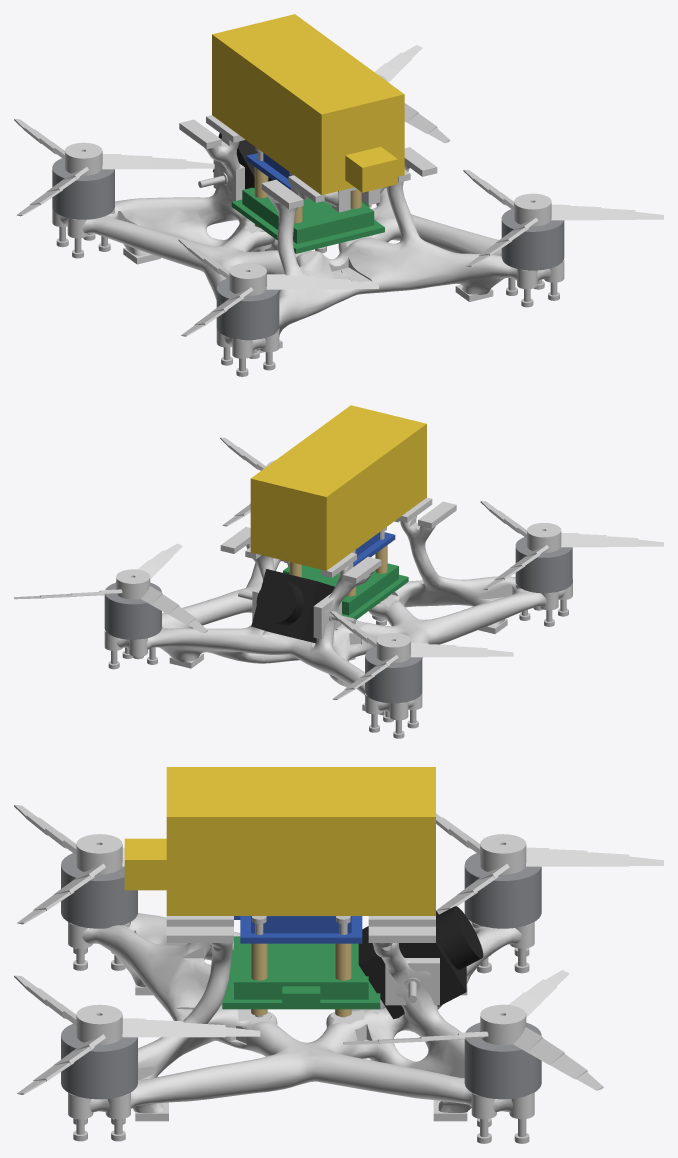
Rendered from frame.glb.
3 views of the same model, one above another, from view 1: azimuth 30°, elevation 25°; view 2: azimuth 150°, elevation 25°; view 3: azimuth 270°, elevation 25° (orthographic). The views are drawn at different scales.
Parts seen in each view (by area): view 1: Body1, BATTERY_4S_650, FC_AIO, PROP_3016:1, PROP_3016:3, PROP_3016:2, MOTOR_1404:2, MOTOR_1404:3, MOTOR_1404:1, PROP_3016, VTX_ANALOG, CAMERA; view 2: Body1, BATTERY_4S_650, CAMERA, PROP_3016:1, PROP_3016:2, PROP_3016, MOTOR_1404:1, MOTOR_1404:2, MOTOR_1404, FC_AIO, VTX_ANALOG, PROP_3016:3; view 3: BATTERY_4S_650, Body1, FC_AIO, PROP_3016:3, CAMERA, PROP_3016, PROP_3016:1, MOTOR_1404:1, MOTOR_1404, MOTOR_1404:3, MOTOR_1404:2, PROP_3016:2 (+3 smaller).
Boxes of the visible parts, x1,y1,x2,y2 form: Body1: [52, 115, 564, 358]; BATTERY_4S_650: [212, 14, 404, 195]; FC_AIO: [231, 187, 384, 253]; PROP_3016:1: [14, 119, 214, 216]; PROP_3016:3: [463, 169, 663, 266]; PROP_3016:2: [178, 239, 378, 336]; MOTOR_1404:2: [216, 278, 279, 340]; MOTOR_1404:3: [501, 209, 564, 270]; MOTOR_1404:1: [52, 158, 114, 219]; PROP_3016: [374, 45, 450, 143]; VTX_ANALOG: [246, 153, 291, 189]; CAMERA: [213, 133, 272, 189]; Body1: [104, 497, 572, 720]; BATTERY_4S_650: [250, 405, 426, 570]; CAMERA: [251, 569, 334, 643]; PROP_3016:1: [330, 611, 513, 699]; PROP_3016:2: [480, 501, 663, 589]; PROP_3016: [14, 543, 207, 633]; MOTOR_1404:1: [365, 647, 422, 703]; MOTOR_1404:2: [515, 537, 572, 593]; MOTOR_1404: [104, 582, 161, 639]; FC_AIO: [283, 563, 408, 619]; VTX_ANALOG: [353, 532, 395, 566]; PROP_3016:3: [220, 437, 274, 526]; BATTERY_4S_650: [124, 767, 435, 915]; Body1: [68, 913, 534, 1121]; FC_AIO: [222, 936, 380, 1009]; PROP_3016:3: [14, 975, 260, 1094]; CAMERA: [358, 906, 483, 1019]; PROP_3016: [343, 970, 603, 1090]; PROP_3016:1: [436, 813, 663, 914]; MOTOR_1404:1: [464, 853, 541, 928]; MOTOR_1404: [464, 1022, 541, 1099]; MOTOR_1404:3: [61, 1024, 137, 1099]; MOTOR_1404:2: [61, 853, 137, 928]; PROP_3016:2: [14, 805, 124, 924].
Size of the model in its own units: 0.1633 by 0.0681 by 0.1546.
